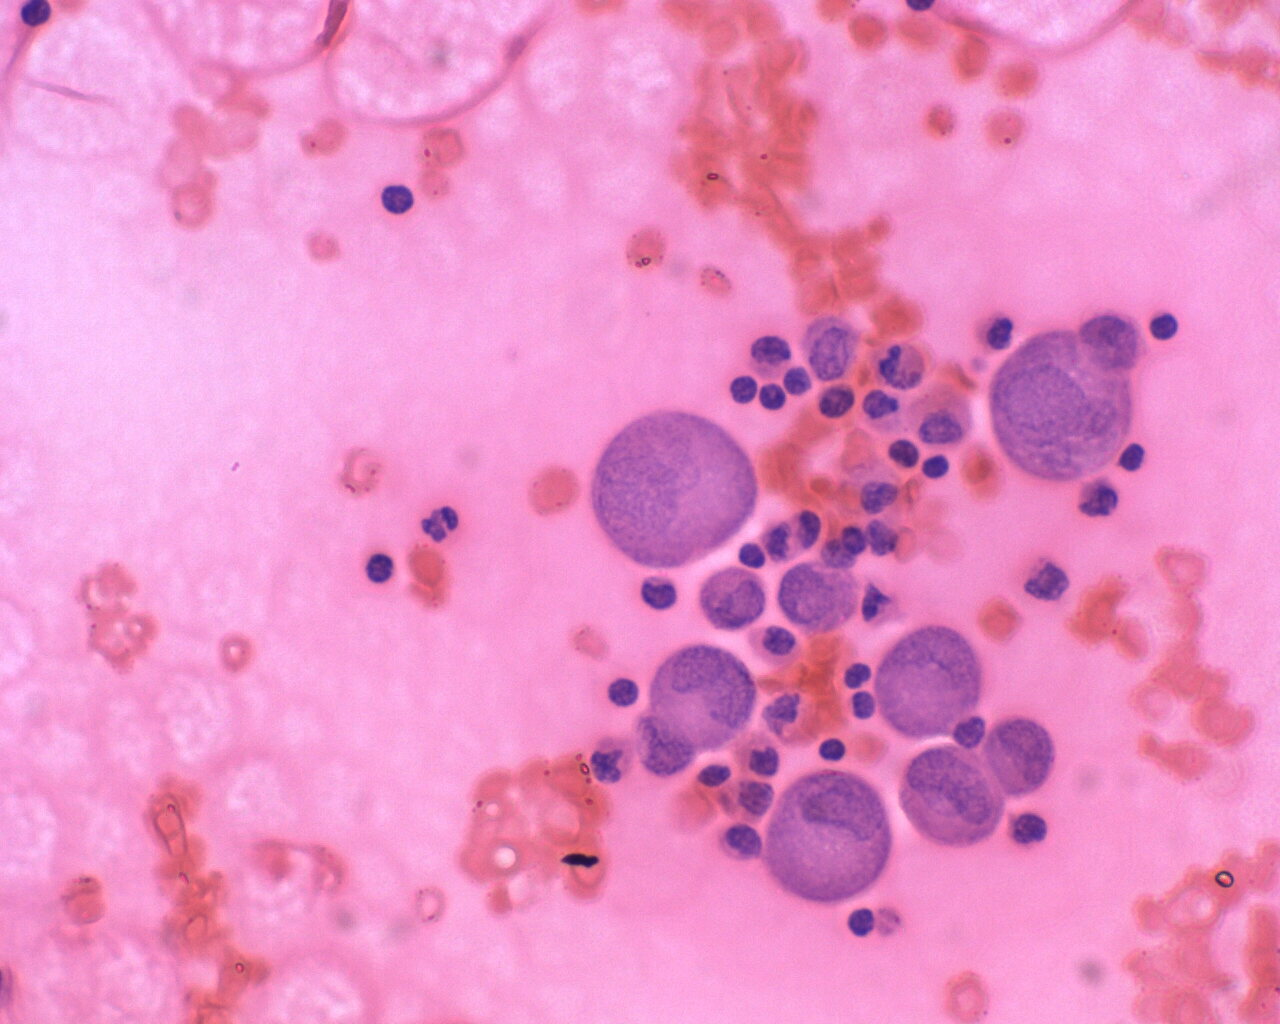ab: (990, 305, 1140, 486), (591, 410, 759, 571), (759, 773, 897, 909), (872, 618, 985, 738), (651, 641, 757, 759), (895, 744, 1001, 853), (771, 555, 863, 637), (696, 559, 773, 635)
lymph: (356, 553, 401, 592), (376, 178, 419, 217), (813, 730, 852, 771), (1147, 308, 1184, 347), (920, 445, 953, 485)
